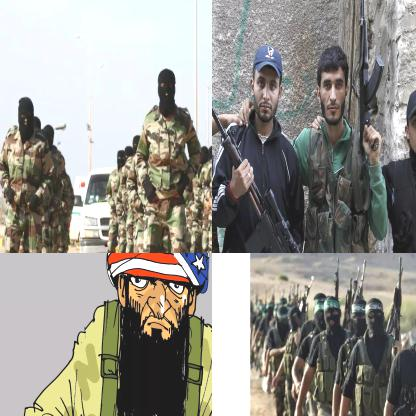rifle: (212, 52, 321, 252), (352, 0, 385, 160), (390, 256, 408, 345)
